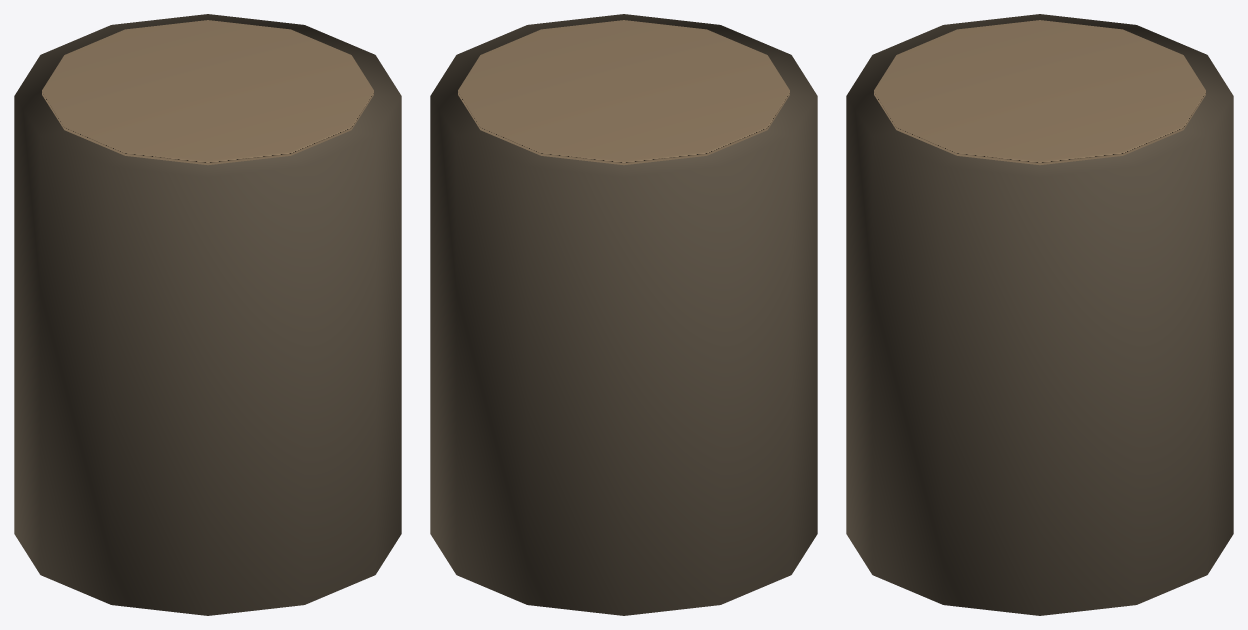
The model's file is tree_stump.glb.
3 views of the same model, side by side, from view 1: azimuth 30°, elevation 25°; view 2: azimuth 150°, elevation 25°; view 3: azimuth 270°, elevation 25° (orthographic).
Visible parts, largest first — view 1: bark, cut_face; view 2: bark, cut_face; view 3: bark, cut_face.
Boxes of the visible parts, <box> form: bark: <box>14,14,401,615</box>; cut_face: <box>42,20,373,165</box>; bark: <box>430,14,817,615</box>; cut_face: <box>458,20,789,165</box>; bark: <box>846,14,1233,615</box>; cut_face: <box>874,20,1205,165</box>.
Bounding box in the file's own units: 0.56 × 0.709 × 0.56.
